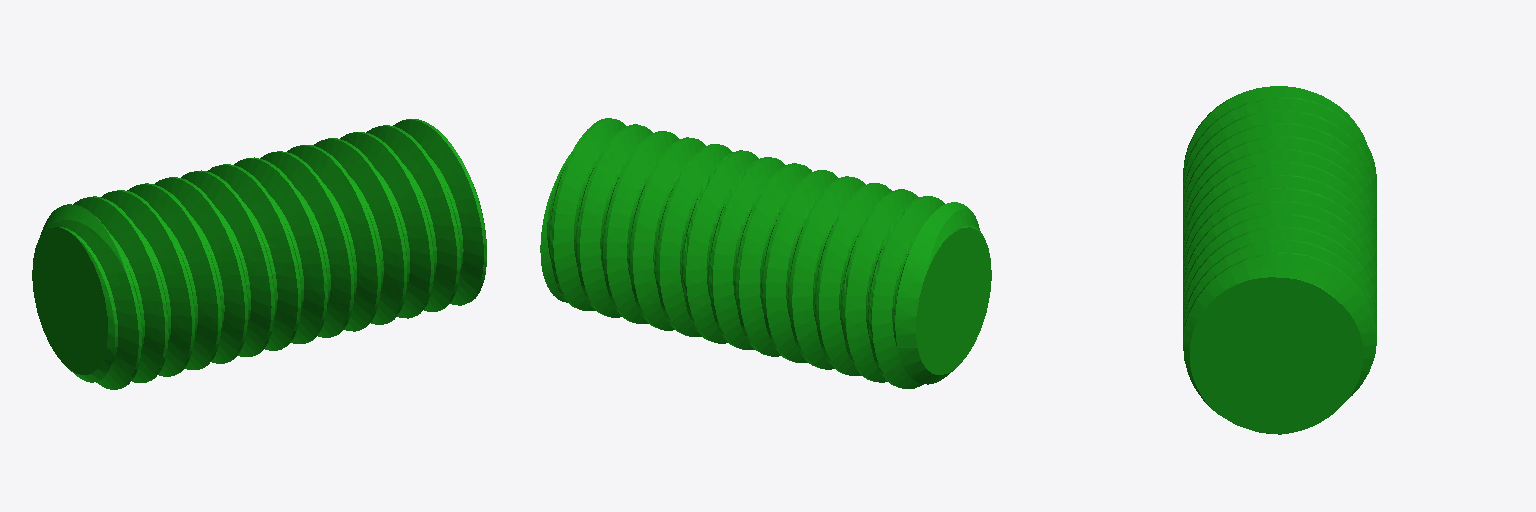
Rendered from screw.obj.
The picture shows the model from 3 angles: view 1: azimuth 30°, elevation 25°; view 2: azimuth 150°, elevation 25°; view 3: azimuth 270°, elevation 25°; orthographic projection.
Parts seen in each view (by area): view 1: Screw.002; view 2: Screw.002; view 3: Screw.002.
Part boxes in pixels (left/top/right/bottom): Screw.002: left=32, top=119, right=486, bottom=389; Screw.002: left=540, top=118, right=991, bottom=388; Screw.002: left=1183, top=86, right=1376, bottom=434.
Size of the model in its own units: 0.007 by 0.0032 by 0.0032.